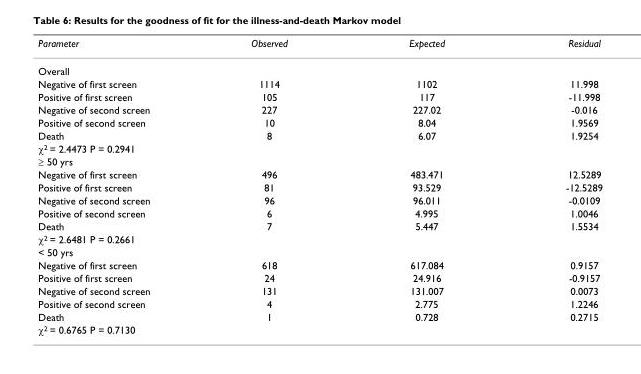table: (37, 36, 601, 335)
table column: (37, 36, 199, 335), (347, 36, 504, 335), (199, 36, 347, 335), (504, 36, 601, 335)
table column header: (37, 36, 601, 56)
table projected row header: (37, 56, 601, 76), (37, 231, 601, 245), (37, 141, 601, 154), (37, 154, 601, 167), (37, 245, 601, 258)
table row: (37, 36, 601, 56), (37, 56, 601, 76), (37, 231, 601, 245), (37, 76, 601, 89), (37, 89, 601, 102), (37, 102, 601, 115), (37, 115, 601, 128), (37, 128, 601, 141), (37, 141, 601, 154), (37, 154, 601, 167), (37, 167, 601, 180), (37, 180, 601, 193), (37, 193, 601, 206), (37, 206, 601, 219), (37, 245, 601, 258), (37, 258, 601, 271), (37, 271, 601, 284), (37, 296, 601, 309), (37, 309, 601, 322), (37, 322, 601, 335), (37, 219, 601, 231), (37, 284, 601, 296)
